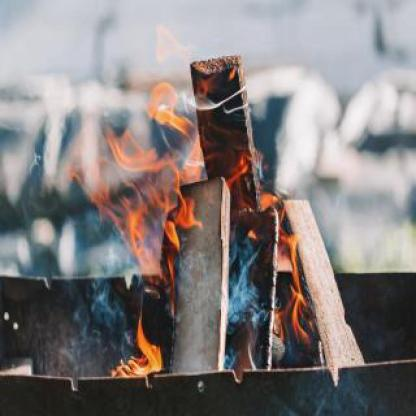fire: (55, 76, 323, 378)
